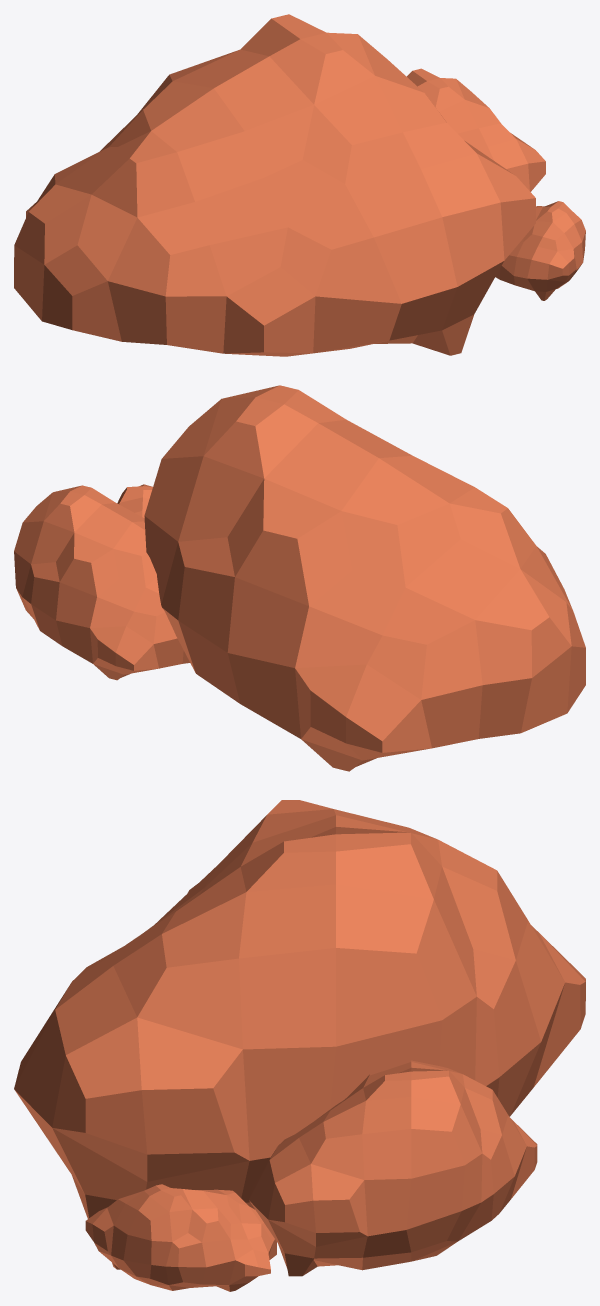
File: Rock_V04.fbx
3 views of the same model, one above another, from view 1: azimuth 30°, elevation 25°; view 2: azimuth 150°, elevation 25°; view 3: azimuth 270°, elevation 25° (orthographic). The views are drawn at different scales.
Parts seen in each view (by area): view 1: Rock_V04; view 2: Rock_V04; view 3: Rock_V04.
Boxes of the visible parts, bbox=[...] form: Rock_V04: bbox=[14, 14, 585, 356]; Rock_V04: bbox=[14, 385, 585, 771]; Rock_V04: bbox=[14, 800, 585, 1291].
Bounding box in the file's own units: 435 × 227 × 328.
